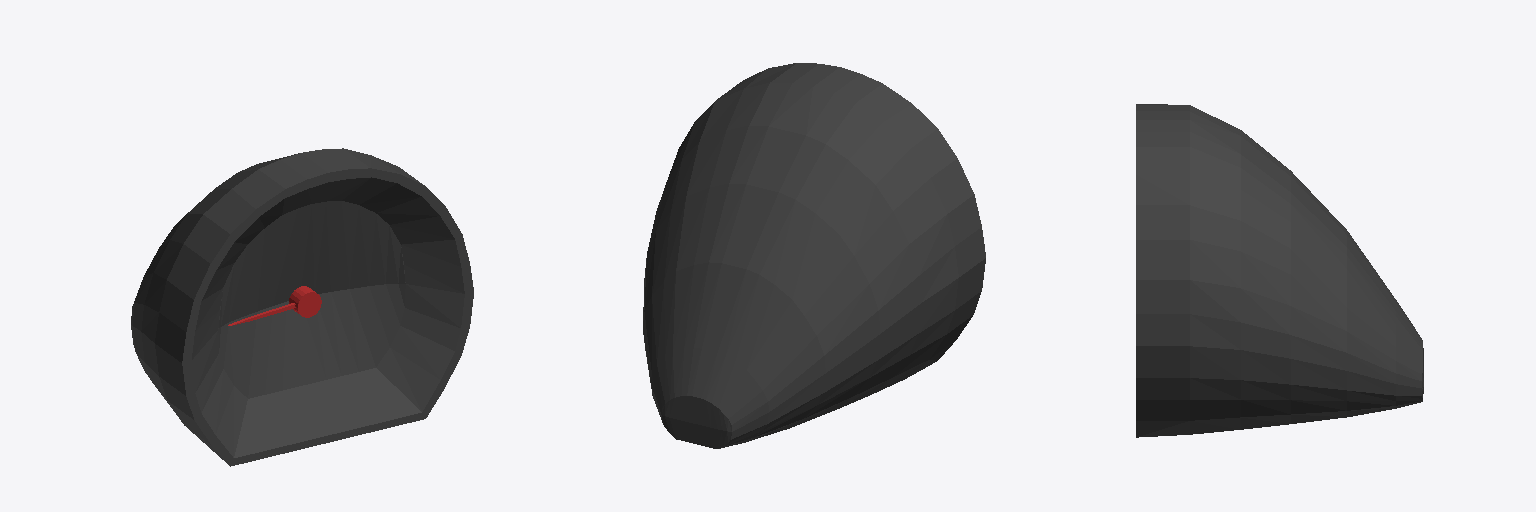
File: Velocidad.obj
3 views of the same model, side by side, from view 1: azimuth 30°, elevation 25°; view 2: azimuth 150°, elevation 25°; view 3: azimuth 270°, elevation 25° (orthographic).
Visible parts, largest first — view 1: BaseVel1, Indicador1; view 2: BaseVel1; view 3: BaseVel1.
Boxes of the visible parts, <box> form: BaseVel1: <box>131,148,473,466</box>; Indicador1: <box>228,286,321,325</box>; BaseVel1: <box>643,63,985,448</box>; BaseVel1: <box>1136,104,1423,437</box>.
Size of the model in its own units: 6.75 by 6.01 by 5.78.